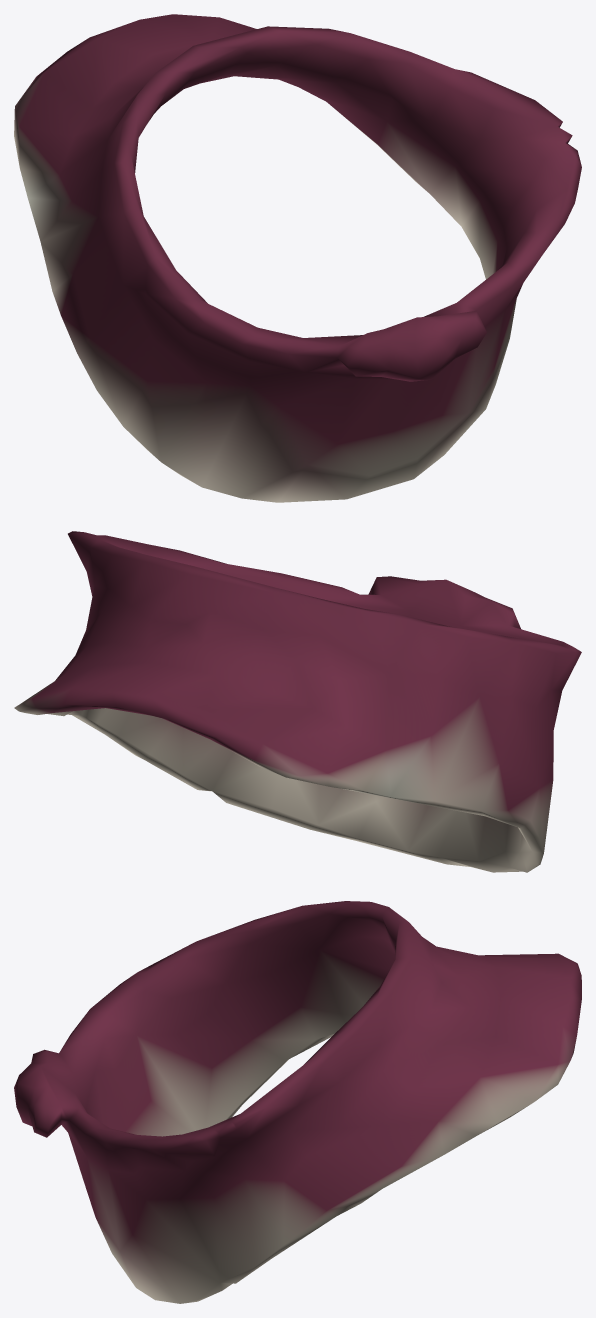
The model's file is khanchoang.glb.
The picture shows the model from 3 angles, top to bottom: view 1: azimuth 30°, elevation 25°; view 2: azimuth 150°, elevation 25°; view 3: azimuth 270°, elevation 25°; orthographic projection. The views are drawn at different scales.
Visible parts, largest first — view 1: Khan_Choang; view 2: Khan_Choang; view 3: Khan_Choang.
Boxes of the visible parts, x1,y1,x2,y2 form: Khan_Choang: [14, 14, 581, 502]; Khan_Choang: [14, 531, 581, 872]; Khan_Choang: [14, 901, 581, 1303].
Bounding box in the file's own units: 0.2531 × 0.1849 × 0.2851.
